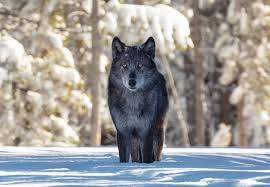Wolf: (108, 37, 167, 161)
